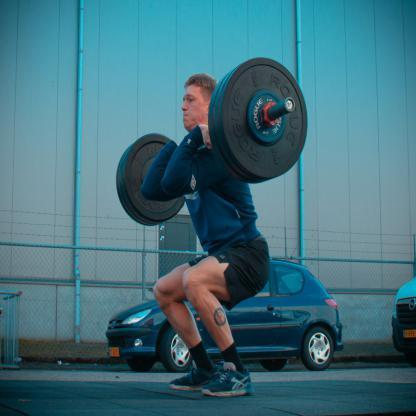barbell: (114, 58, 308, 228)
